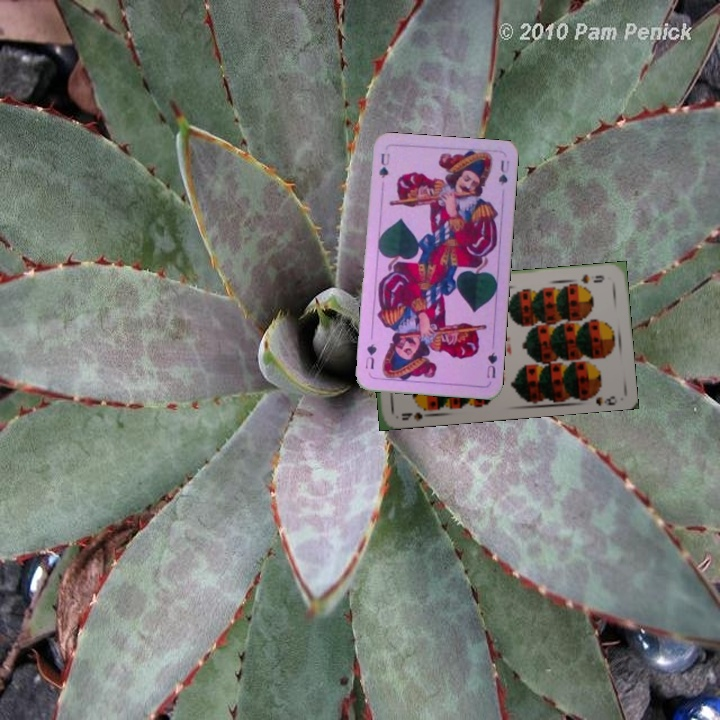GU: (483, 348, 500, 381), (375, 149, 392, 181)
S9: (397, 402, 434, 423), (577, 270, 607, 286)
